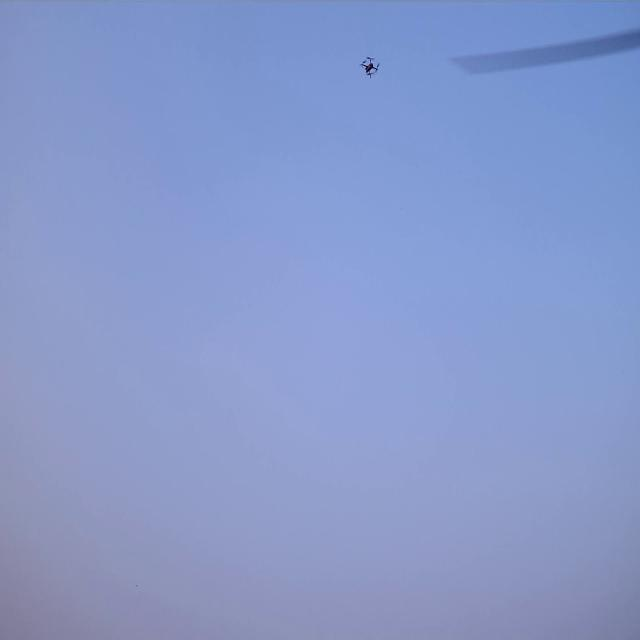UAV: (362, 57, 378, 76)
